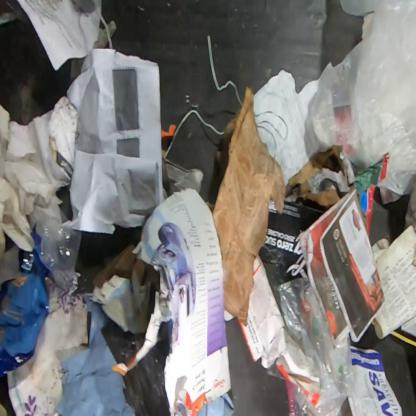cardboard: (212, 86, 286, 326)
soft_plastic: (56, 294, 236, 416), (312, 0, 415, 199), (272, 277, 354, 415), (0, 231, 54, 375), (33, 204, 83, 294)
